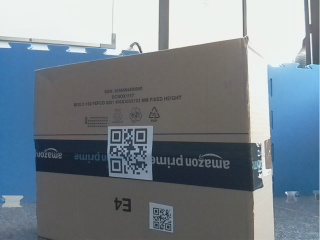caja: (32, 46, 266, 233)
